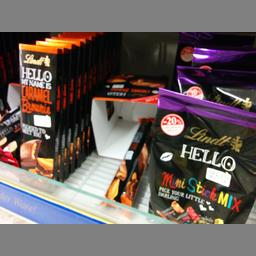chocolate: (148, 81, 254, 224), (18, 41, 60, 170)
